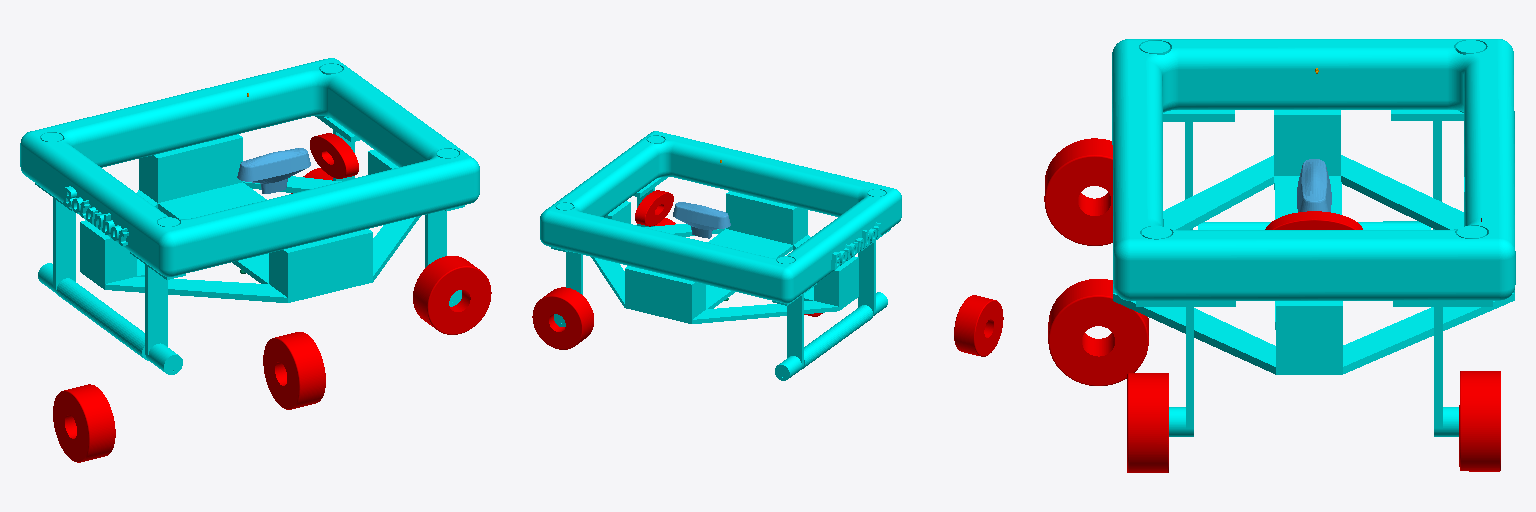
The robot description file, URDF, robot "botanbot":
<?xml version="1.0"?>
<robot name="botanbot"
    xmlns:xacro="http://ros.org/wiki/xacro">
    <!-- BEGIN LINKS-->
    <!-- begin robot body links-->
    <link name="base_link">
        <visual>
            <origin xyz="-0.019375 0.005287 0.340756" rpy="0 0 0" />
            <geometry>
                <mesh filename="package://botanbot_description/meshes/base.stl"/>
            </geometry>
            <material name="Cyan">
                <color rgba="0 1.0 1.0 1.0" />
            </material>
        </visual>
        <collision>
            <origin xyz="-0.019375 0.005287 0.340756" rpy="0 0 0" />
            <geometry>
                <mesh filename="package://botanbot_description/meshes/base.stl"/>
            </geometry>
        </collision>
    </link>
    <link name='steering_wheel'>
        <visual name='visual'>
            <origin xyz="0 0 0" rpy="1.57 0 0" />
            <geometry>
                <mesh filename="package://botanbot_description/meshes/wheel.stl" scale="0.5 0.5 1" />
            </geometry>
            <material name="Red">
                <color rgba="1.0 0 0 0.6" />
            </material>
        </visual>
        <collision name='collision'>
            <geometry>
                <mesh filename="package://botanbot_description/meshes/wheel.stl" scale="0.5 0.5 1" />
            </geometry>
        </collision>
    </link>
    <link name='front_left_wheel'>
        <visual name='visual'>
            <origin xyz="0 0 0" rpy="0 0 1.57" />
            <geometry>
                <mesh filename="package://botanbot_description/meshes/wheel.stl" scale="1 1 1" />
            </geometry>
            <material name="Red">
                <color rgba="1.0 0 0 0.6" />
            </material>
        </visual>
        <collision name='collision'>
            <geometry>
                <mesh filename="package://botanbot_description/meshes/wheel.stl" scale="1 1 1" />
            </geometry>
        </collision>
    </link>
    <link name='front_right_wheel'>
        <visual name='visual'>
            <origin xyz="0 0 0" rpy="0 0 1.57" />
            <geometry>
                <mesh filename="package://botanbot_description/meshes/wheel.stl" scale="1 1 1" />
            </geometry>
            <material name="Red">
                <color rgba="1.0 0 0 0.6" />
            </material>
        </visual>
        <collision name='collision'>
            <geometry>
                <mesh filename="package://botanbot_description/meshes/wheel.stl" scale="1 1 1" />
            </geometry>
        </collision>
    </link>
    <link name='rear_left_wheel'>
        <visual name='visual'>
            <origin xyz="0 0 0" rpy="0 0 1.57" />
            <geometry>
                <mesh filename="package://botanbot_description/meshes/wheel.stl" scale="1 1 1" />
            </geometry>
            <material name="Red">
                <color rgba="1.0 0 0 0.6" />
            </material>
        </visual>
        <collision name='collision'>
            <geometry>
                <mesh filename="package://botanbot_description/meshes/wheel.stl" scale="1 1 1" />
            </geometry>
        </collision>
    </link>
    <link name='rear_right_wheel'>
        <visual name='visual'>
            <origin xyz="0 0 0" rpy="0 0 1.57" />
            <geometry>
                <mesh filename="package://botanbot_description/meshes/wheel.stl" scale="1 1 1" />
            </geometry>
            <material name="Red">
                <color rgba="1.0 0 0 0.6" />
            </material>
        </visual>
        <collision name='collision'>
            <geometry>
                <mesh filename="package://botanbot_description/meshes/wheel.stl" scale="1 1 1" />
            </geometry>
        </collision>
    </link>
    <link name='rear_axle'>
        <visual name='visual'>
            <origin xyz="0 0 0" rpy="1.57 -0 1.57" />
            <geometry>
                <cylinder radius="0.043346" length="0.694281" />
            </geometry>
            <material name="Cyan">
                <color rgba="0 1.0 1.0 1.0" />
            </material>
        </visual>
        <collision name='collision'>
            <origin xyz="0 0 0" rpy="1.57 -0 1.57" />
            <geometry>
                <cylinder radius="0.043346" length="0.694281" />
            </geometry>
        </collision>
    </link>
    <!-- end robot body links-->
    <!-- begin sensor links-->
    <link name='imu_link'>
        <visual name='visual'>
            <geometry>
                <cylinder radius="0.001" length="0.011" />
            </geometry>
            <material name="Red">
                <color rgba="1.0 0 0 0.6" />
            </material>
        </visual>
        <collision name='collision'>
            <geometry>
                <cylinder radius="0.001" length="0.011" />
            </geometry>
        </collision>
    </link>
    <link name="velodyne_link">
        <visual>
            <geometry>
                <mesh filename="package://botanbot_description/meshes/lidar.stl" scale="0.001 0.001 0.001" />
            </geometry>
        </visual>
        <collision>
            <geometry>
                <mesh filename="package://botanbot_description/meshes/lidar.stl" scale="0.001 0.001 0.001" />
            </geometry>
        </collision>
    </link>
    <link name="gps_link">
        <visual>
            <geometry>
                <mesh filename="package://botanbot_description/meshes/gps.stl" scale="0.0005 0.0005 0.001" />
            </geometry>
        </visual>
        <collision>
            <geometry>
                <mesh filename="package://botanbot_description/meshes/gps.stl" scale="0.0005 0.0005 0.001" />
            </geometry>
        </collision>
    </link>
    <link name="camera_bottom_screw_frame">
        <visual>
            <geometry>
                <mesh filename="package://botanbot_description/meshes/d435.dae" />
            </geometry>
        </visual>
        <collision>
            <geometry>
                <mesh filename="package://botanbot_description/meshes/d435.dae" />
            </geometry>
        </collision>
    </link>
    <link name="camera_link"></link>
    <link name="camera_depth_frame"></link>
    <link name="camera_depth_optical_frame"></link>
    <link name="camera_color_frame"></link>
    <link name="camera_color_optical_frame"></link>
    <link name="camera_left_ir_frame"></link>
    <link name="camera_left_ir_optical_frame"></link>
    <link name="camera_right_ir_frame"></link>
    <link name="camera_right_ir_optical_frame"></link>
    <!-- end sensor links-->
    <!-- END LINKS-->
    <!--  BEGIN  JOINTS-->
    <!-- begin robot body joints-->
    <joint name='front_left_combined_joint' type='continuous'>
        <parent link="base_link" />
        <child link="front_left_wheel" />
        <origin xyz="0.653624 0.496194 -0.084805" rpy="0 -0 1.5706" />
        <axis xyz="1 0 1" />
    </joint>
    <joint name='front_right_combined_joint' type='continuous'>
        <parent link="base_link" />
        <child link="front_right_wheel" />
        <origin xyz="0.666123 -0.495391 -0.085288" rpy="0 0 1.5706" />
        <axis xyz="1 0 1" />
    </joint>
    <joint name='rear_axle_joint' type='revolute'>
        <parent link="base_link" />
        <child link="rear_axle" />
        <origin xyz="-0.656403 0.001088 -0.085593" rpy="0 0 1.57" />
        <dynamics damping="2000.0" friction="0.0"/>
        <limit effort="0" velocity="0.0" lower="-0.05" upper="0.05" />
        <axis xyz="0 1 0" />
    </joint>
    <joint name='rear_left_joint' type='continuous'>
        <parent link="rear_axle" />
        <child link="rear_left_wheel" />
        <origin xyz="-0.656583 0.492236 -0.085593" rpy="0 -0 1.5706" />
        <axis xyz="1 0 0" />
    </joint>
    <joint name='rear_right_joint' type='continuous'>
        <parent link="rear_axle" />
        <child link="rear_right_wheel" />
        <origin xyz="-0.644212 -0.499228 -0.085214" rpy="0 -0 1.5706" />
        <axis xyz="1 0 0" />
    </joint>
    <joint name='steering_joint' type='continuous'>
        <parent link="base_link" />
        <child link="steering_wheel" />
        <origin xyz="0.400132 9.3e-05 0.399996" rpy="0 -1.57 0" />
        <axis xyz="0 0 1" />
    </joint>
    <!-- end robot body joints-->
    <!-- begin sensor joints-->
    <joint name="imu_joint" type="fixed">
        <parent link="base_link" />
        <child link="imu_link" />
        <origin xyz="0.7 0.5 0.6" rpy="0 0 0" />
    </joint>
    <joint name="velodyne_joint" type="fixed">
        <parent link="base_link" />
        <child link="velodyne_link" />
        <origin xyz="0 0 0.8" rpy="0 0 0" />
    </joint>
    <joint name="gps_joint" type="fixed">
        <parent link="base_link" />
        <child link="gps_link" />
        <origin xyz="0 0 0.4" rpy="0 0 0" />
    </joint>
    <joint name="camera_joint" type="fixed">
        <parent link="base_link" />
        <child link="camera_bottom_screw_frame" />
        <pose xyz="0.7 -0.5 0.6" rpy="-1.57 0 -1.57" />
    </joint>
    <joint name="camera_link_joint" type="fixed">
        <parent link="camera_bottom_screw_frame" />
        <child link="camera_link" />
        <pose xyz="0 0.0175 0.0125 " rpy="0 0 0" />
    </joint>
    <joint name="camera_depth_joint" type="fixed">
        <parent link="camera_link" />
        <child link="camera_depth_frame" />
        <pose xyz="0 0 0" rpy="0 0 0" />
    </joint>
    <joint name="camera_depth_optical_joint" type="fixed">
        <parent link="camera_depth_frame" />
        <child link="camera_depth_optical_frame" />
        <pose xyz="0 0 0 " rpy="-1.57 0 -1.57" />
    </joint>
    <joint name="camera_color_joint" type="fixed">
        <parent link="camera_depth_frame" />
        <child link="camera_color_frame" />
        <pose xyz="0 0 0" rpy="0 0 0" />
    </joint>
    <joint name="camera_color_optical_joint" type="fixed">
        <parent link="camera_color_frame" />
        <child link="camera_color_optical_frame" />
        <pose xyz="0 0 0 " rpy="-1.57 0 -1.57" />
    </joint>
    <joint name="camera_left_ir_joint" type="fixed">
        <parent link="camera_depth_frame" />
        <child link="camera_left_ir_frame" />
        <pose xyz="0 0 0 " rpy="0 0 0 " />
    </joint>
    <joint name="camera_left_ir_optical_joint" type="fixed">
        <parent link="camera_left_ir_frame" />
        <child link="camera_left_ir_optical_frame" />
        <pose xyz="0 0 0 " rpy="-1.57 0 -1.57" />
    </joint>
    <joint name="camera_right_ir_joint" type="fixed">
        <parent link="camera_depth_frame" />
        <child link="camera_right_ir_frame" />
        <pose xyz="0 -0.050 0 " rpy="0 0 0" />
    </joint>
    <joint name="camera_right_ir_optical_joint" type="fixed">
        <parent link="camera_right_ir_frame" />
        <child link="camera_right_ir_optical_frame" />
        <pose xyz="0 0 0 " rpy="-1.57 0 -1.57" />
    </joint>
    <!-- end sensor joints-->
    <!-- END JOINTS-->
</robot>

--- What the picture shows (computed from the rendered views, not written in the file) ---
3 views of the same robot in one strip: view 1: azimuth 30°, elevation 25°; view 2: azimuth 150°, elevation 25°; view 3: azimuth 270°, elevation 25° (orthographic).
Robot: botanbot — 20 links, 19 joints (1 revolute, 5 continuous, 13 fixed); root link base_link; default pose: all joints at 0.
Visible links, largest first — view 1: base_link, front_right_wheel, rear_left_wheel, rear_right_wheel, rear_axle, gps_link, steering_wheel; view 2: base_link, front_left_wheel, rear_left_wheel, rear_axle, gps_link, steering_wheel; view 3: base_link, rear_right_wheel, rear_left_wheel, front_right_wheel, front_left_wheel, gps_link, steering_wheel, rear_axle.
Link boxes in pixels (bbox=[...]): base_link: bbox=[20, 58, 479, 374]; front_right_wheel: bbox=[413, 256, 491, 334]; rear_left_wheel: bbox=[53, 384, 115, 462]; rear_right_wheel: bbox=[263, 332, 325, 409]; rear_axle: bbox=[57, 278, 147, 360]; gps_link: bbox=[237, 148, 310, 193]; steering_wheel: bbox=[310, 133, 358, 178]; base_link: bbox=[540, 131, 901, 380]; front_left_wheel: bbox=[532, 287, 593, 349]; rear_left_wheel: bbox=[954, 295, 1003, 356]; rear_axle: bbox=[803, 305, 872, 368]; gps_link: bbox=[673, 202, 730, 238]; steering_wheel: bbox=[635, 190, 673, 226]; base_link: bbox=[1112, 39, 1515, 436]; rear_right_wheel: bbox=[1048, 279, 1148, 385]; rear_left_wheel: bbox=[1044, 138, 1112, 245]; front_right_wheel: bbox=[1127, 373, 1168, 472]; front_left_wheel: bbox=[1459, 371, 1500, 471]; gps_link: bbox=[1297, 159, 1331, 211]; steering_wheel: bbox=[1265, 211, 1362, 229]; rear_axle: bbox=[1198, 221, 1430, 229].
Size in the robot's own frame: 2.03 by 1.41 by 1.1 metres.
9 mesh visuals loaded from 5 distinct referenced files (3 binary STL, 1 ASCII STL, 1 Collada DAE).